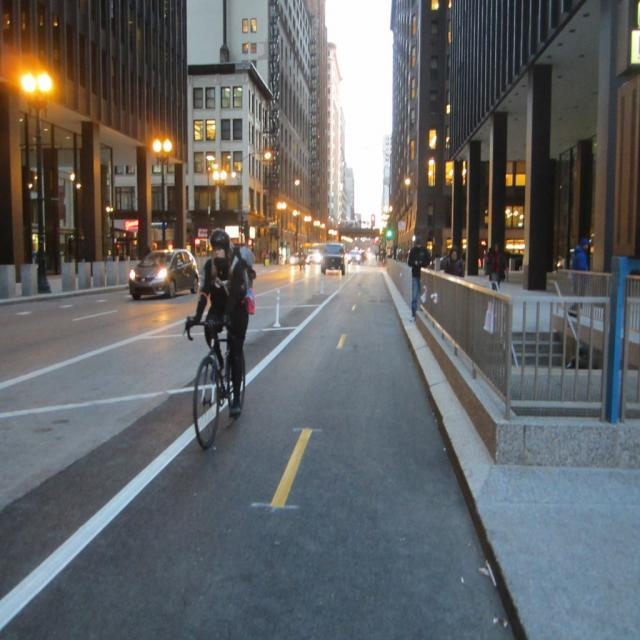car: (187, 299, 244, 446)
